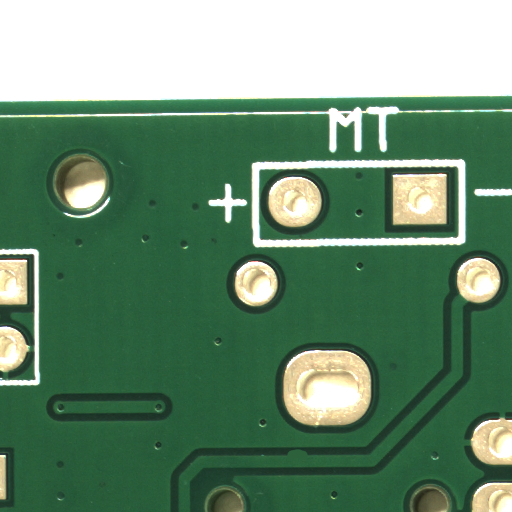Spur: (296, 453, 318, 460)
